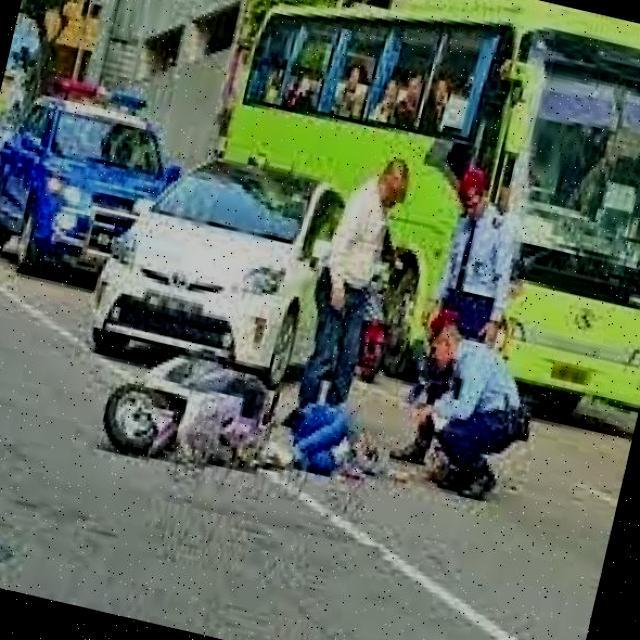accident: (71, 284, 314, 523)
